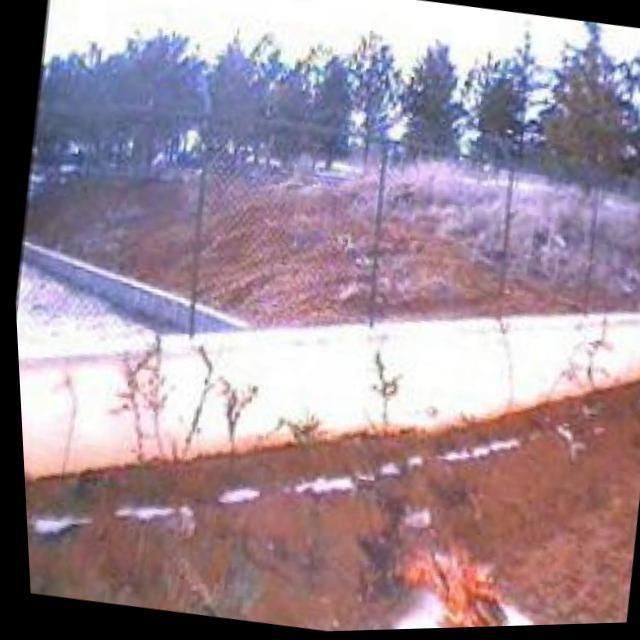fire: (378, 532, 518, 632)
